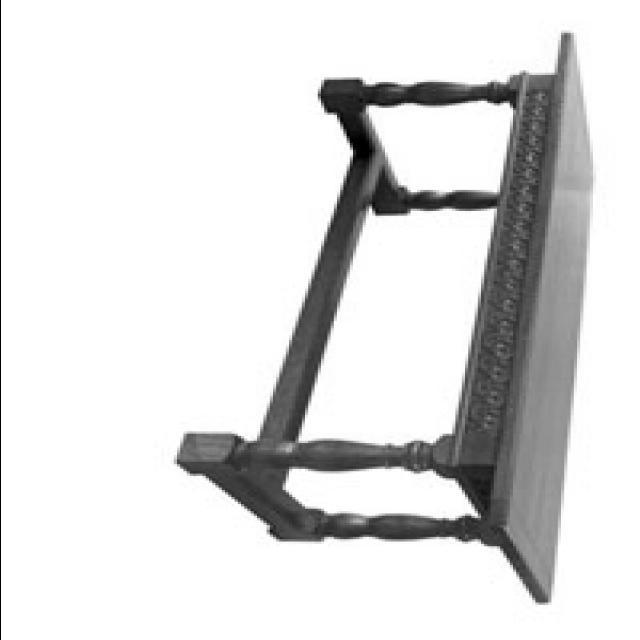table: (174, 31, 594, 603)
